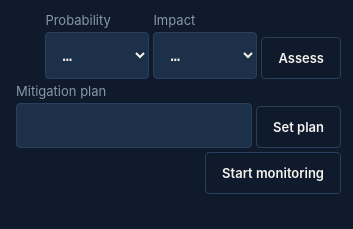
RiskWorkflowActions — assess › shows the action-returned error message when assess fails
Select "High" in the dropdown labelled "Probability". click: (97, 56)
box: [45, 32, 149, 79]
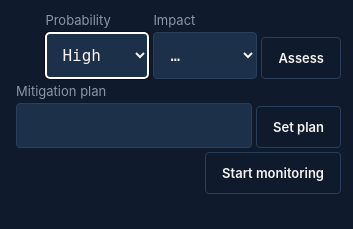
Select "Medium" in the dropdown labelled "Impact". click: (205, 56)
box: [153, 32, 257, 79]
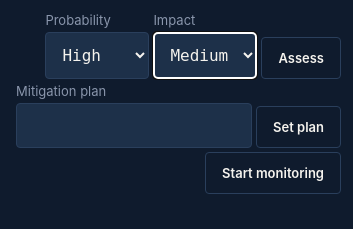
Click the button "Assess". click: (301, 58)
box: [261, 37, 341, 79]
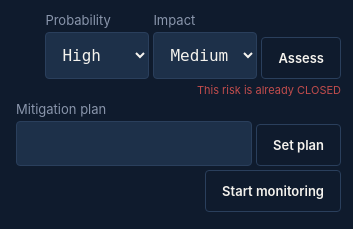
Expected: the text "This risk is already CLOSED" is shown, [197, 83, 341, 97]
